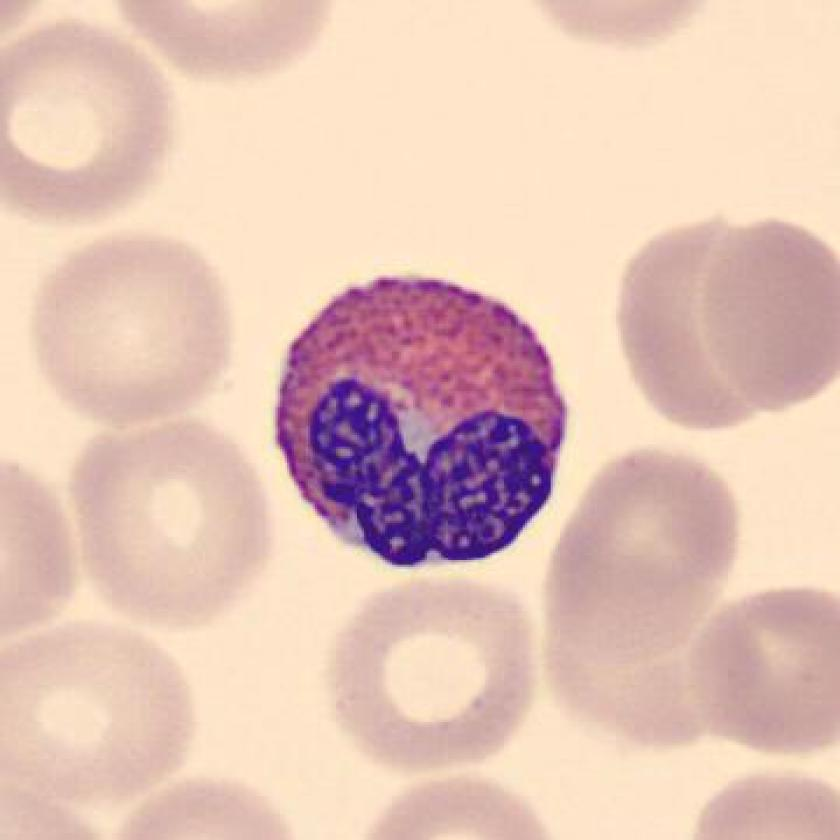eosinophil: (260, 258, 580, 577)
